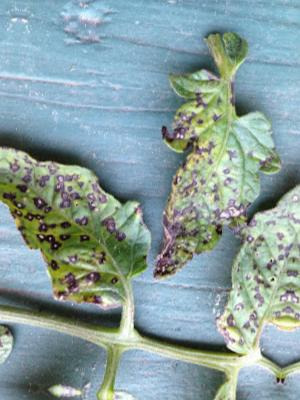Tomato Septoria leaf spot: (140, 14, 287, 302), (0, 142, 154, 312), (208, 156, 300, 368)
